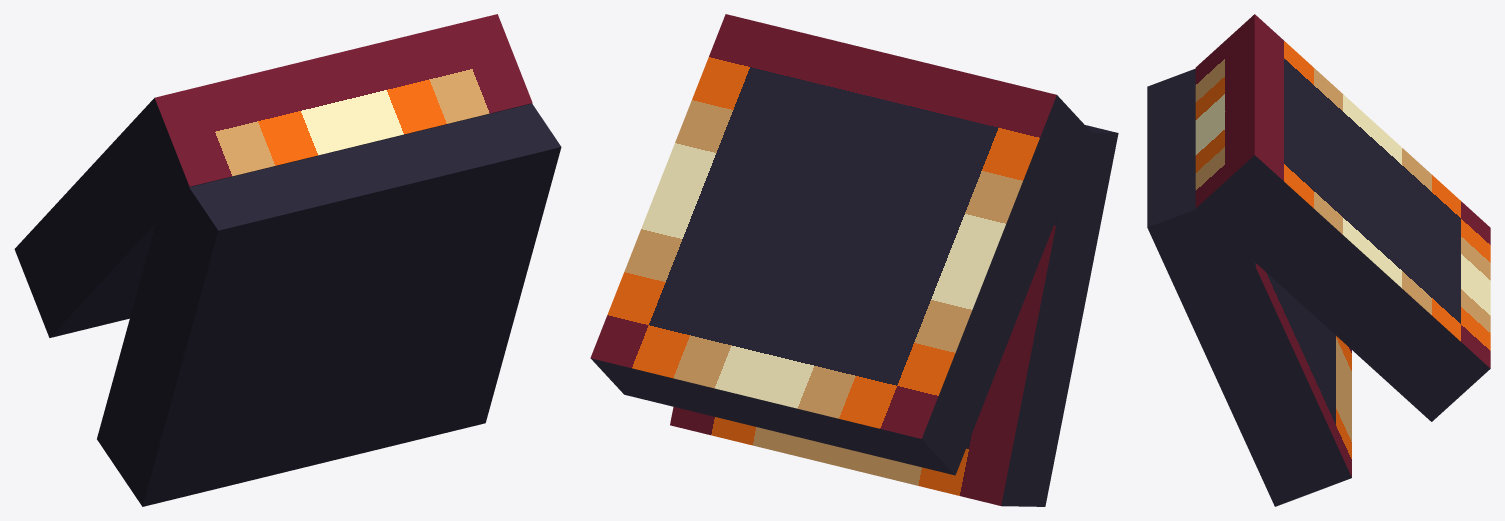
File: item_expert.gltf
3 views of the same model, side by side, from view 1: azimuth 30°, elevation 25°; view 2: azimuth 150°, elevation 25°; view 3: azimuth 270°, elevation 25° (orthographic). The views are drawn at different scales.
Visible parts, largest first — view 1: cube (×2); view 2: cube (×2); view 3: cube (×2).
Boxes of the visible parts, x1=… form: cube (×2): x1=14, y1=14, x2=561, y2=506; cube (×2): x1=590, y1=14, x2=1118, y2=506; cube (×2): x1=1147, y1=14, x2=1490, y2=506.
Bounding box in the file's own units: 0.25 × 0.2911 × 0.2573.
Materials: 1 (1 with a texture image).
